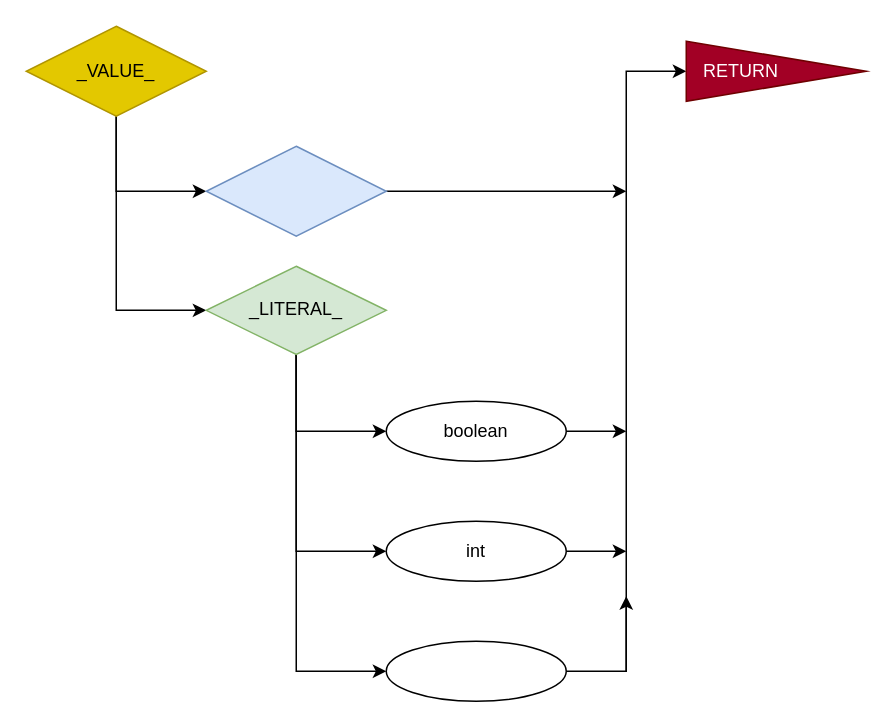
The diagram is 893 pixels wide and 728 high, and some of its shapes have lost their labels. Each missing label, with the box of its shape:
_VAR_: (205, 145, 386, 236)
string: (385, 640, 566, 701)
